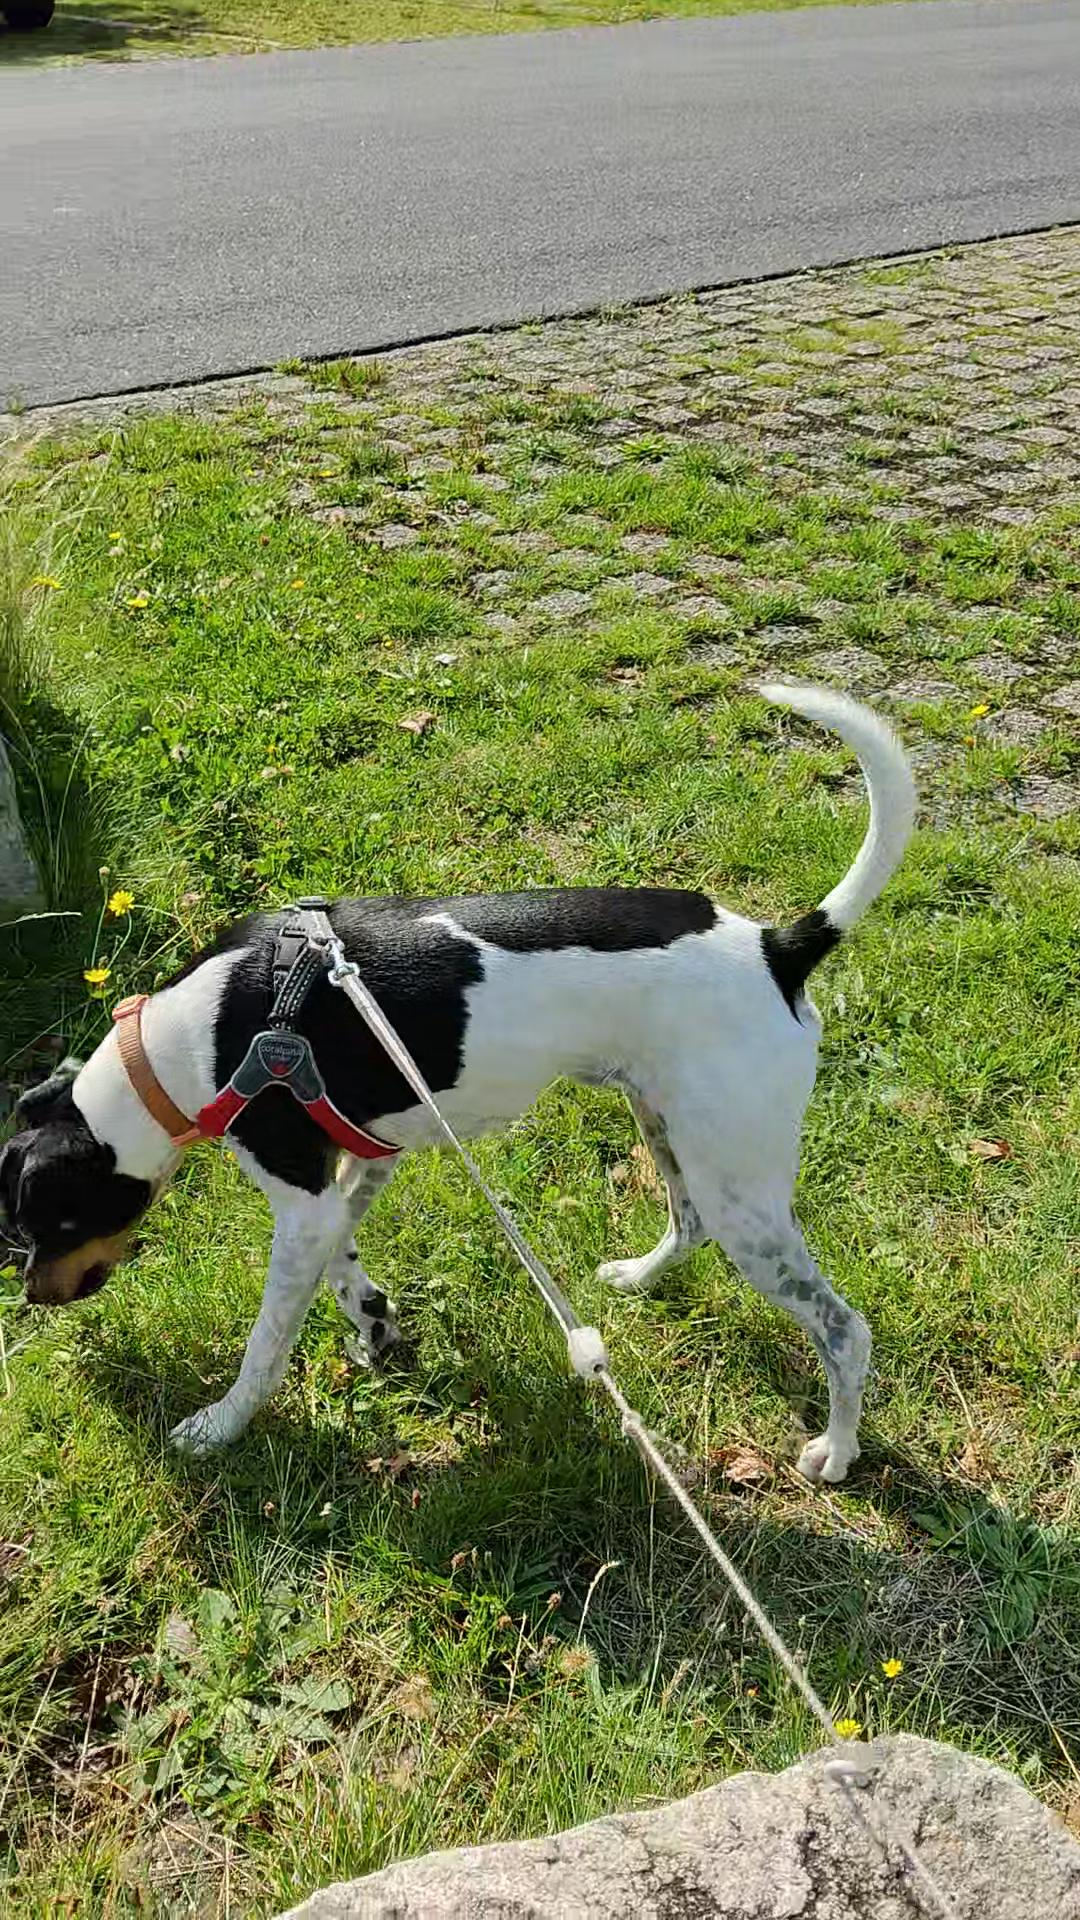Dog: (0, 676, 932, 1509)
